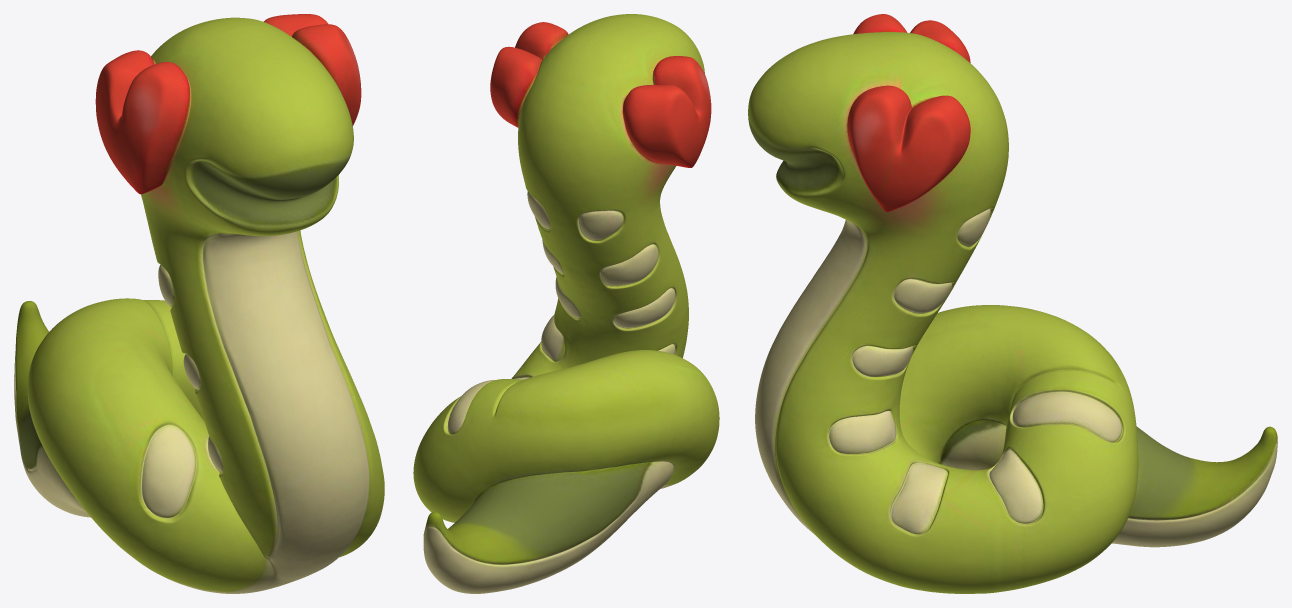
Rendered from snake_head.glb.
The picture shows the model from 3 angles, left to right: view 1: azimuth 30°, elevation 25°; view 2: azimuth 150°, elevation 25°; view 3: azimuth 270°, elevation 25°; orthographic projection. The views are drawn at different scales.
Bounding box in the file's own units: 0.5584 × 1 × 0.9572.
1 material, 1 textured.
